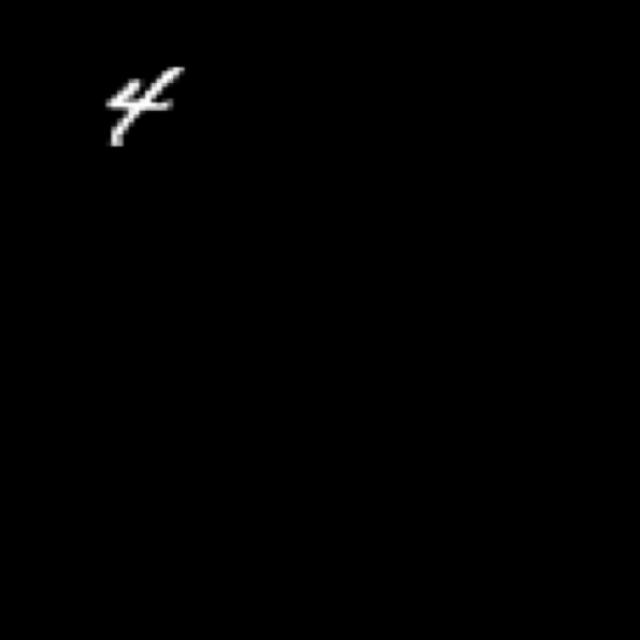four -4-: (77, 53, 196, 156)
